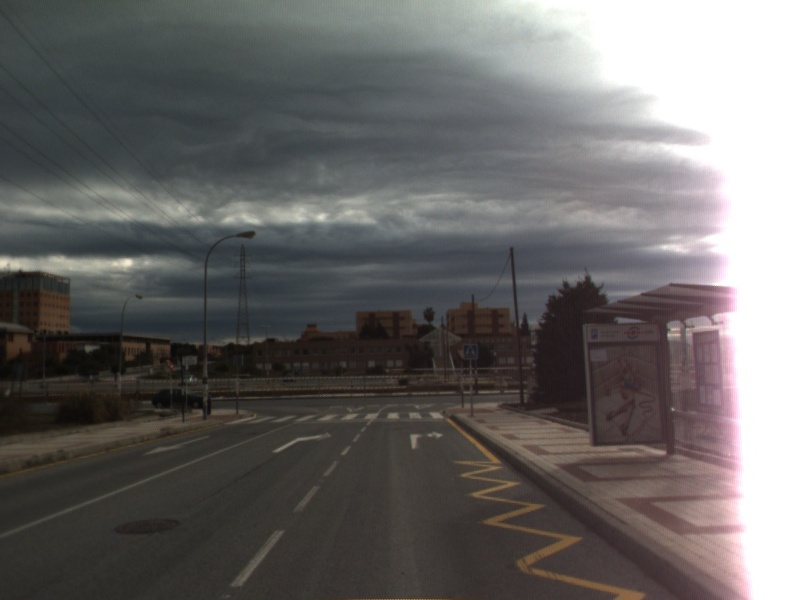RIGHT: (270, 430, 334, 455), (408, 428, 446, 451)
